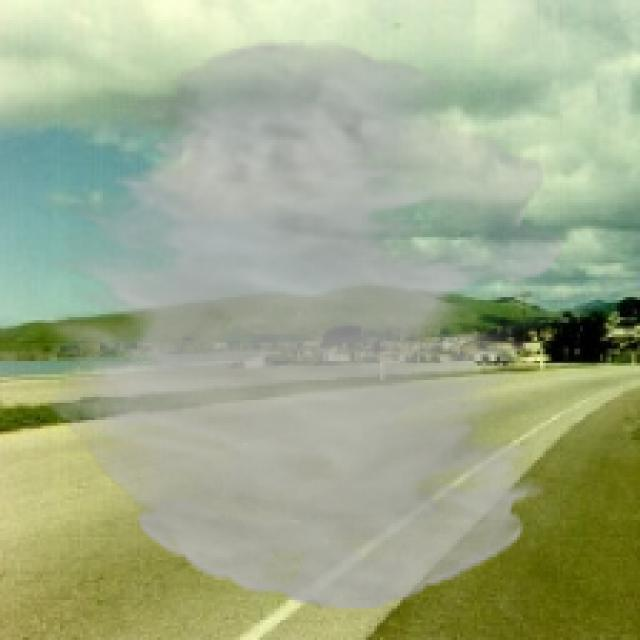Smoke: (43, 40, 563, 609)
